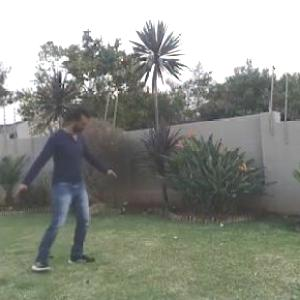land: (9, 96, 125, 287)
